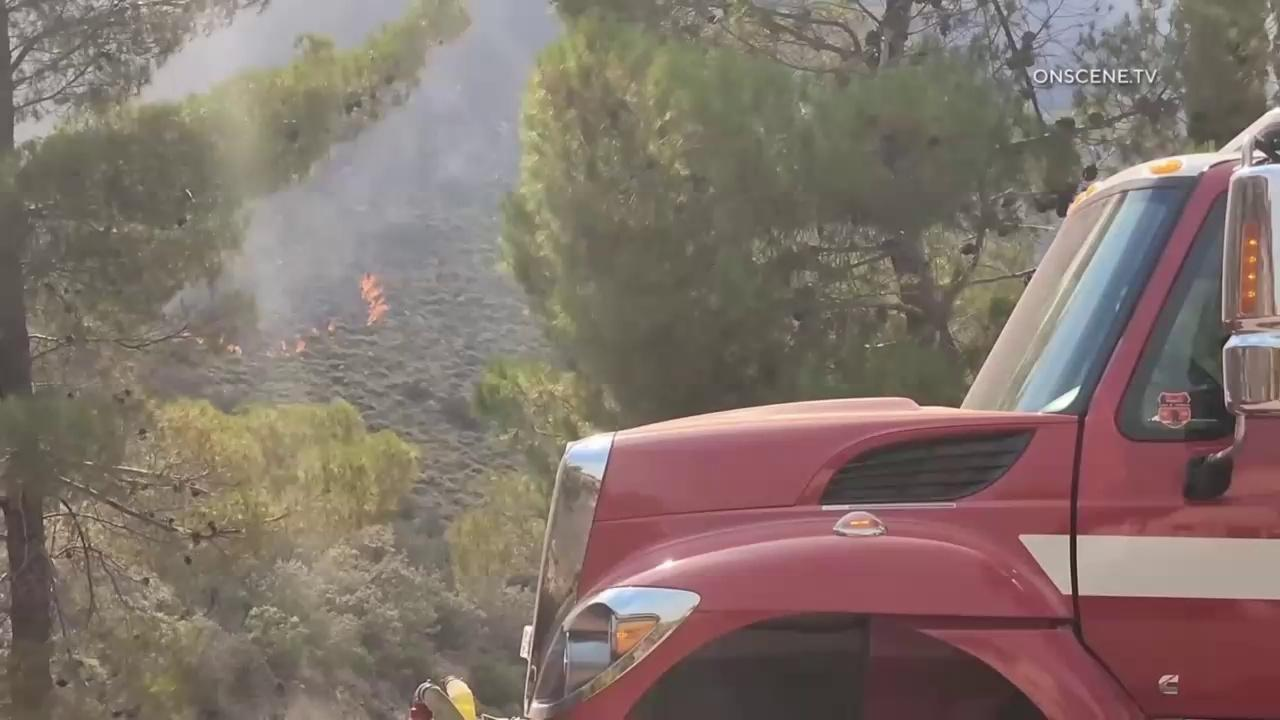fire: (355, 270, 392, 327), (265, 337, 288, 360), (225, 342, 244, 359), (292, 337, 306, 356), (326, 320, 338, 333), (310, 326, 323, 338)
smoke: (0, 0, 587, 351)
